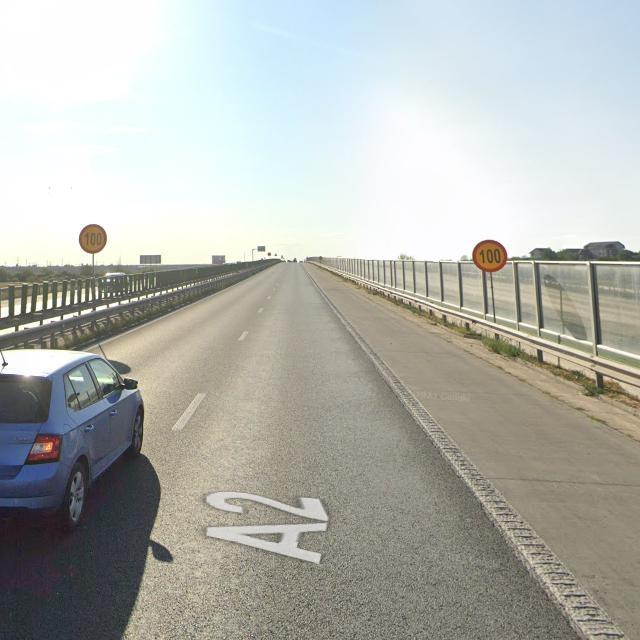forb_speed_over_100: (473, 240, 508, 272), (79, 225, 107, 254)
